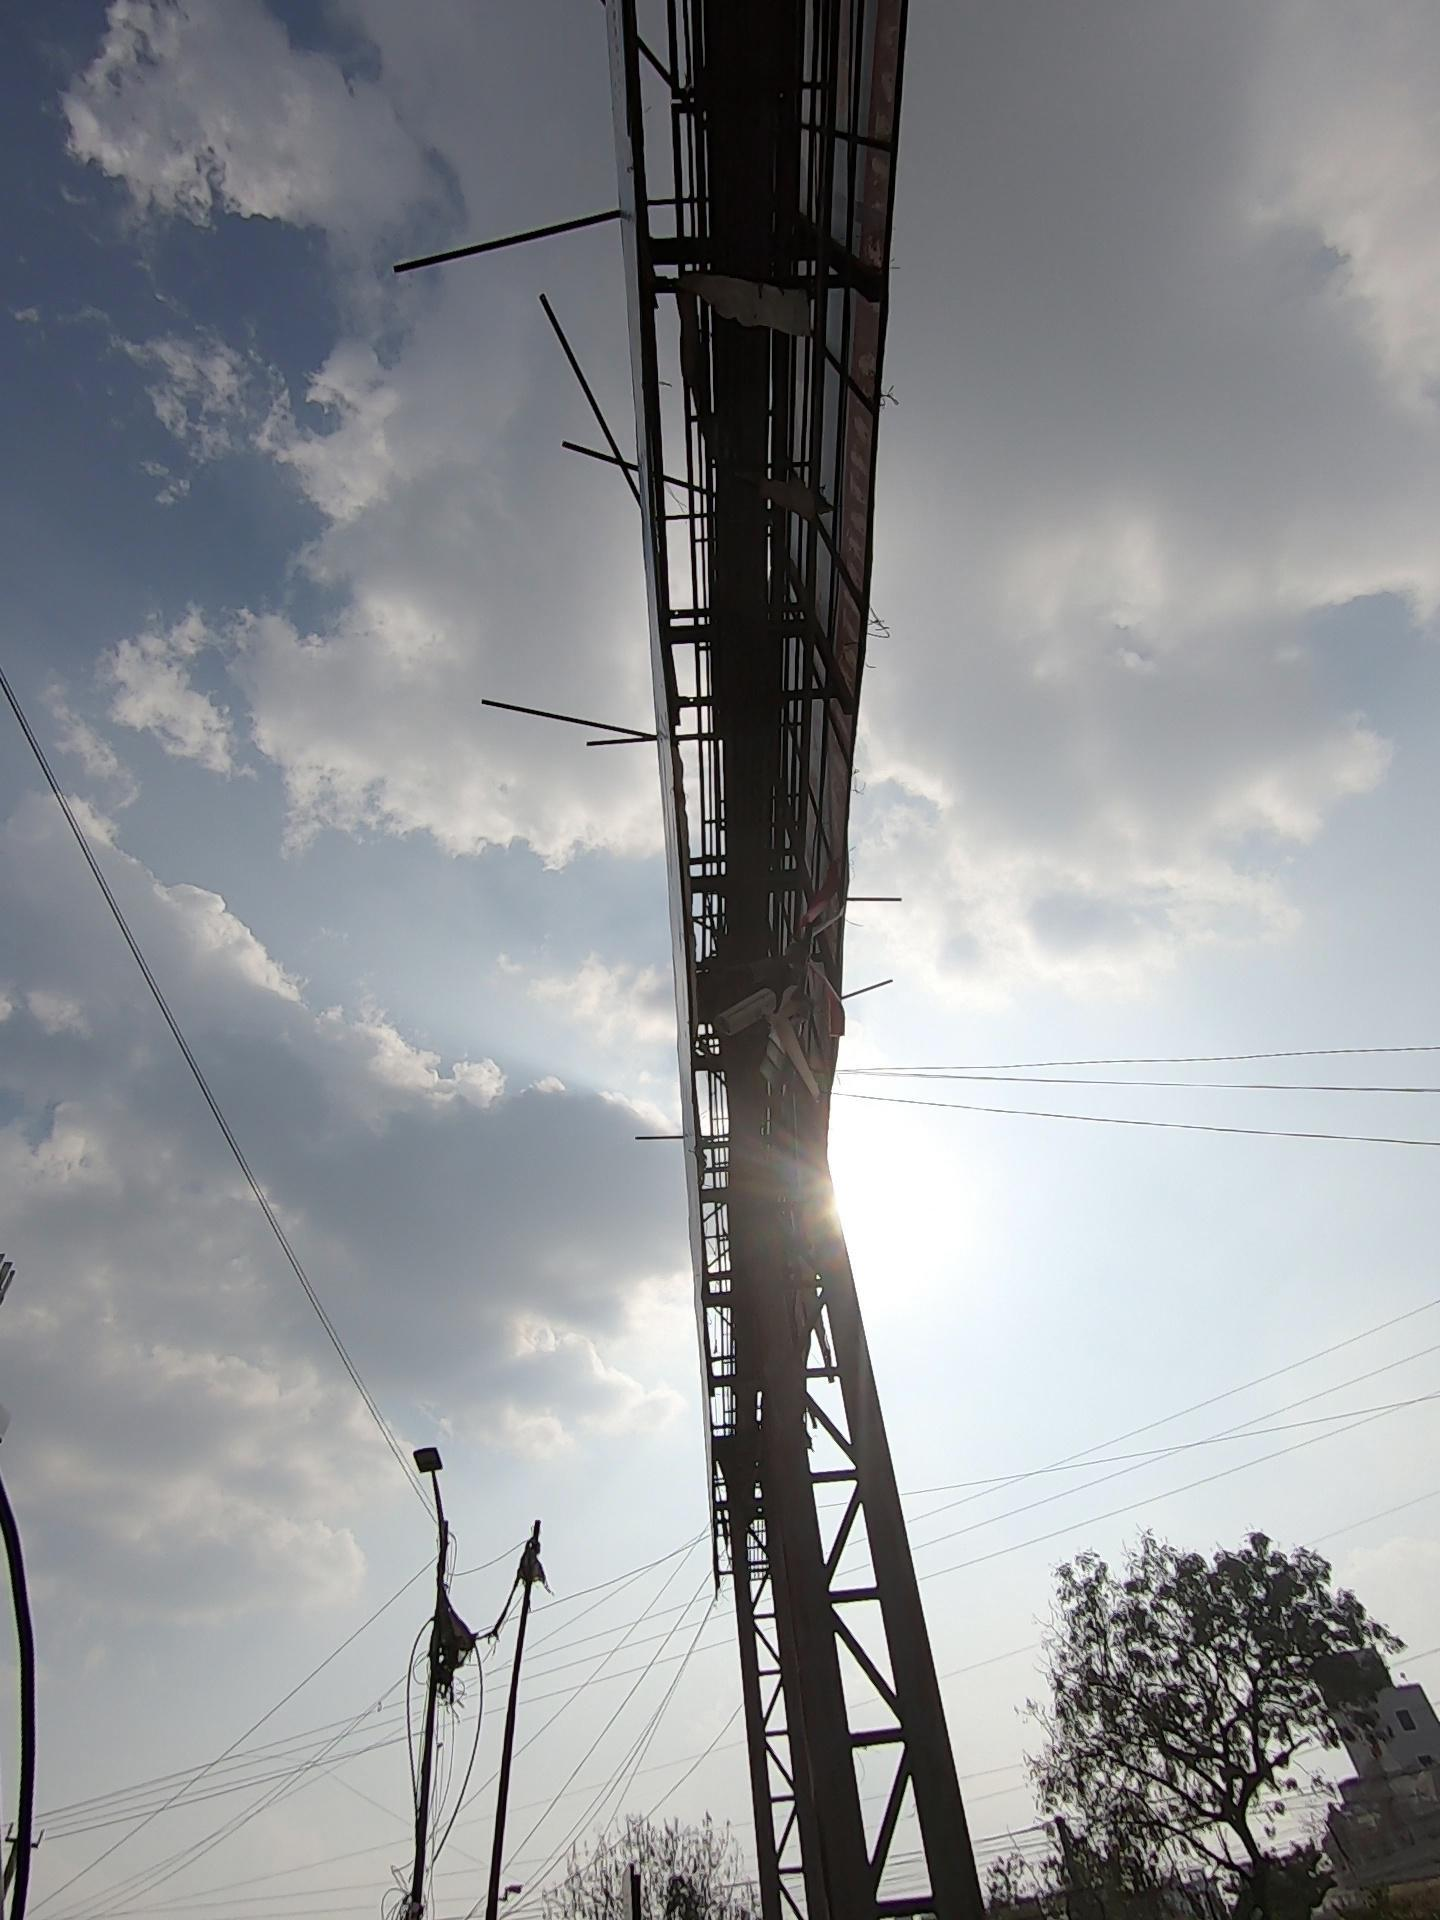off: (290, 1302, 643, 1655)
